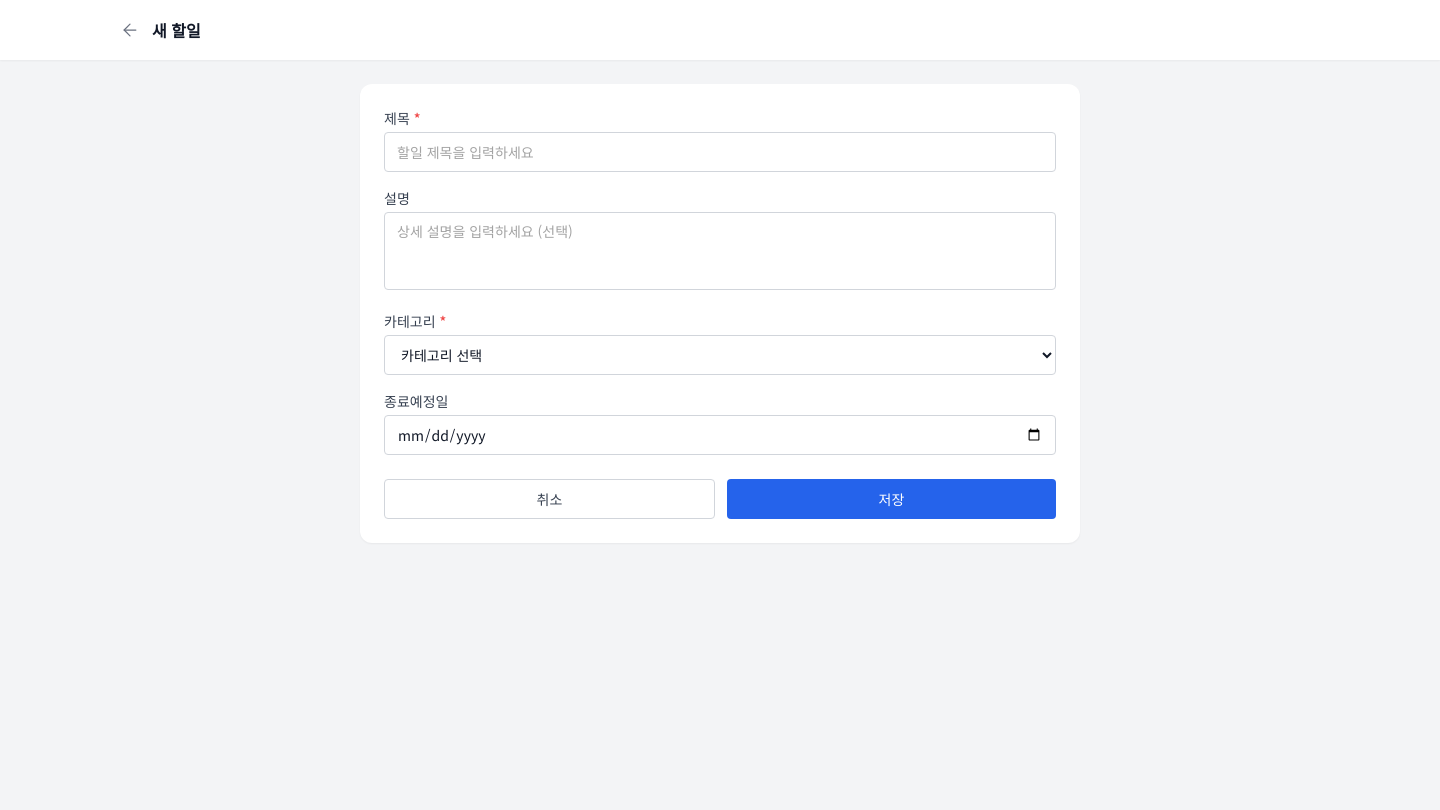
Test: TodoCreatePage › 카테고리 미선택 시 제출하면 에러 메시지 표시
Type "할일" into the field with placeholder "할일 제목을 입력하세요" at [720, 152], box [384, 132, 1056, 172]
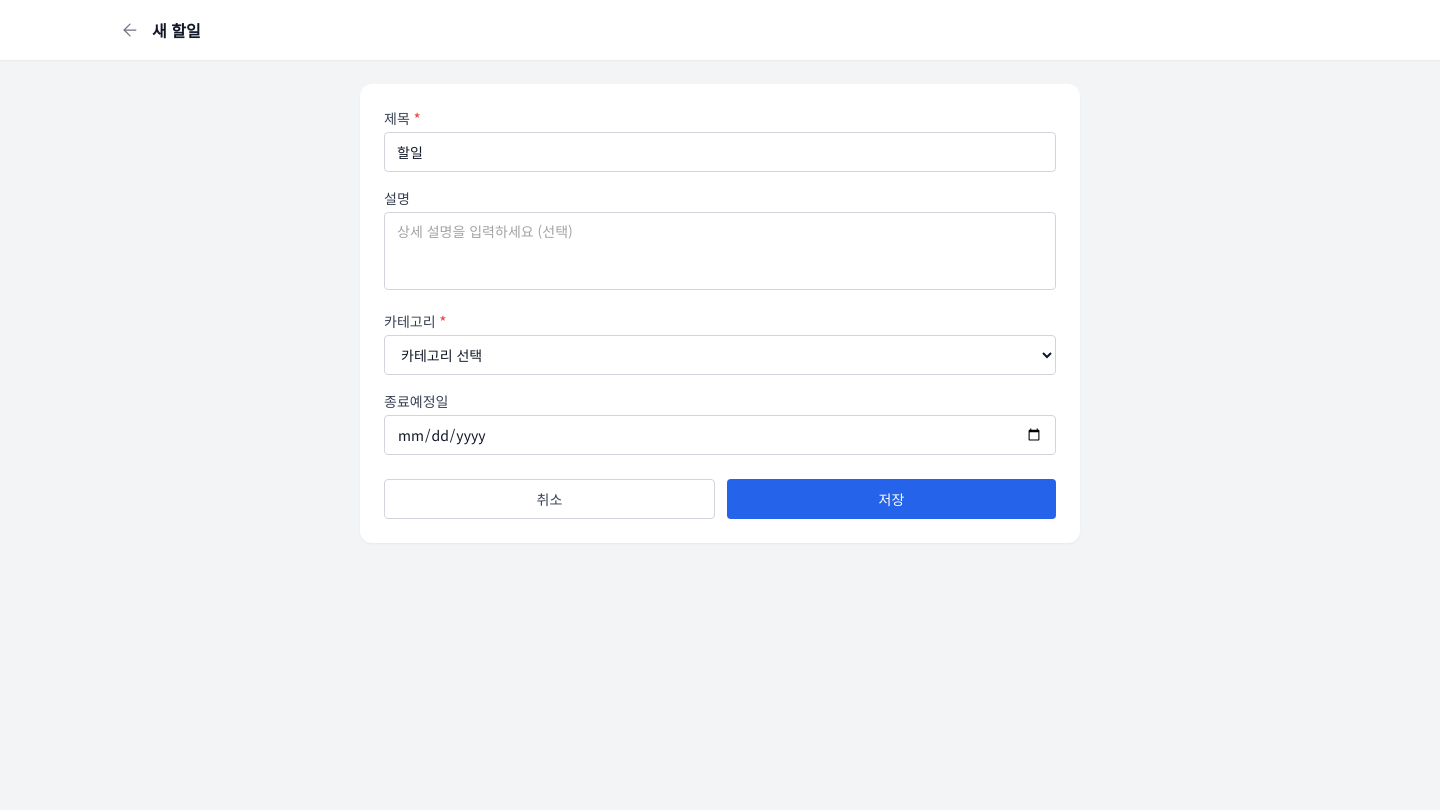
Click the button "저장" at [892, 499], box [727, 479, 1056, 519]
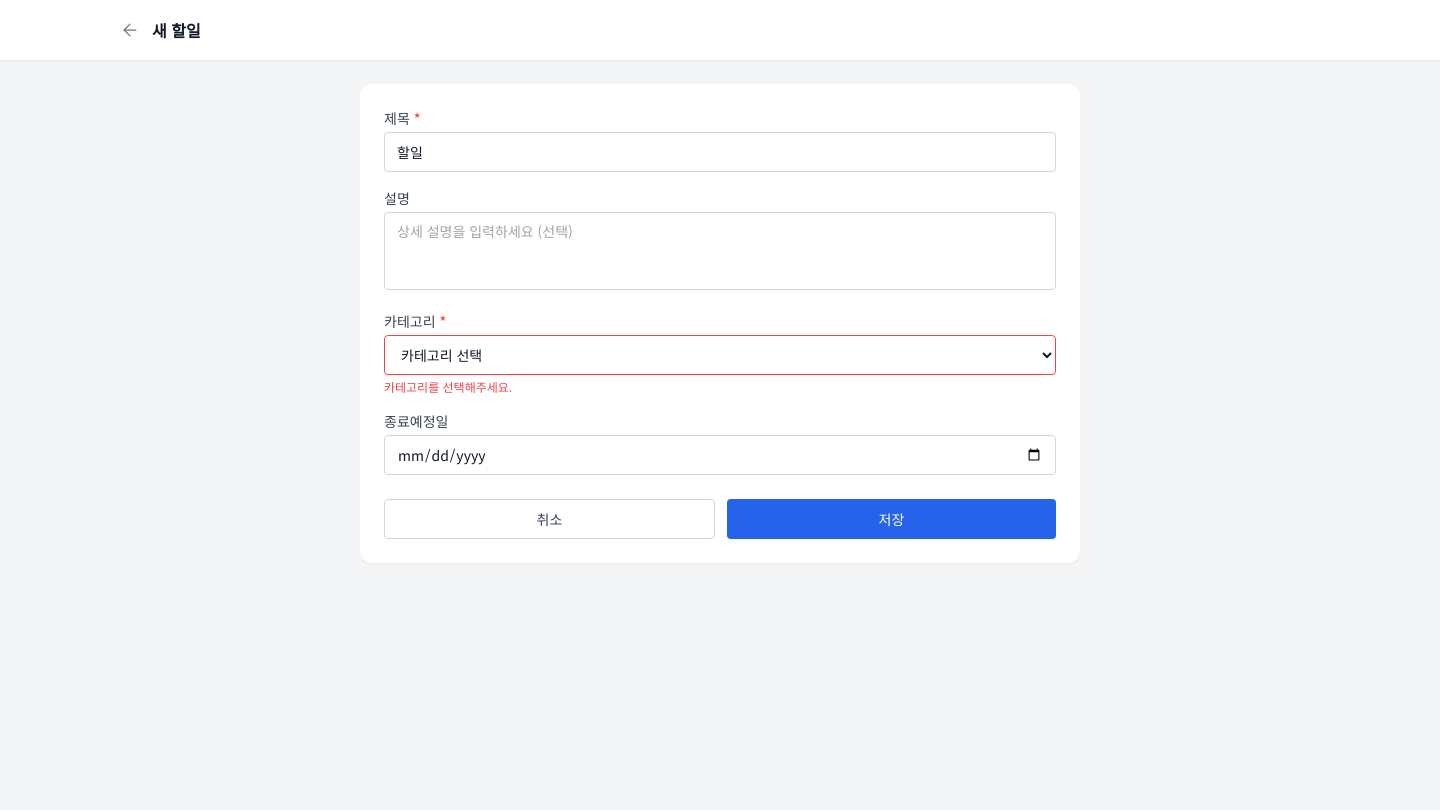
Result: the text "카테고리를 선택해주세요." is shown at [384, 378, 512, 395]
